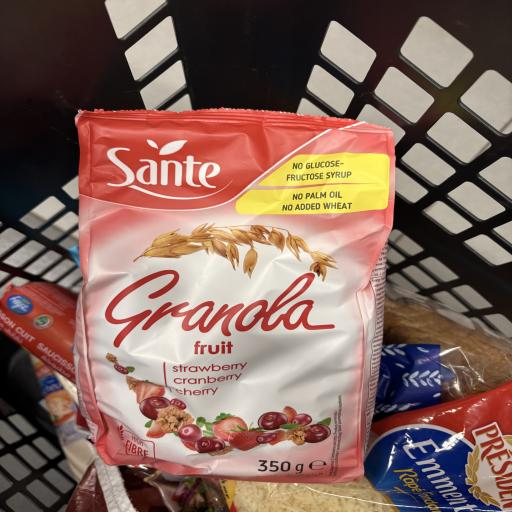granola: (33, 91, 424, 497)
